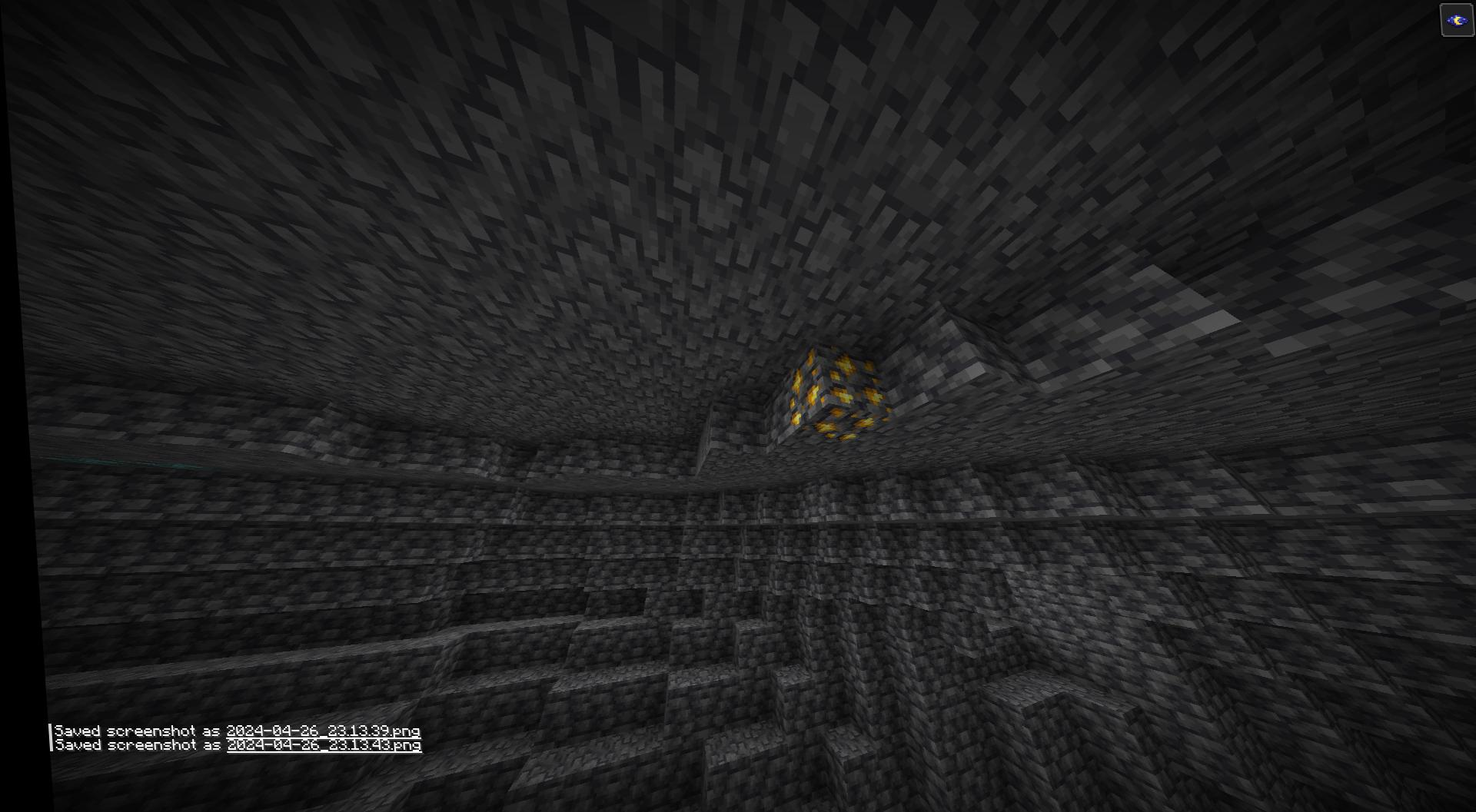gold ore: (816, 351, 882, 408), (803, 408, 875, 438), (784, 357, 816, 424)
